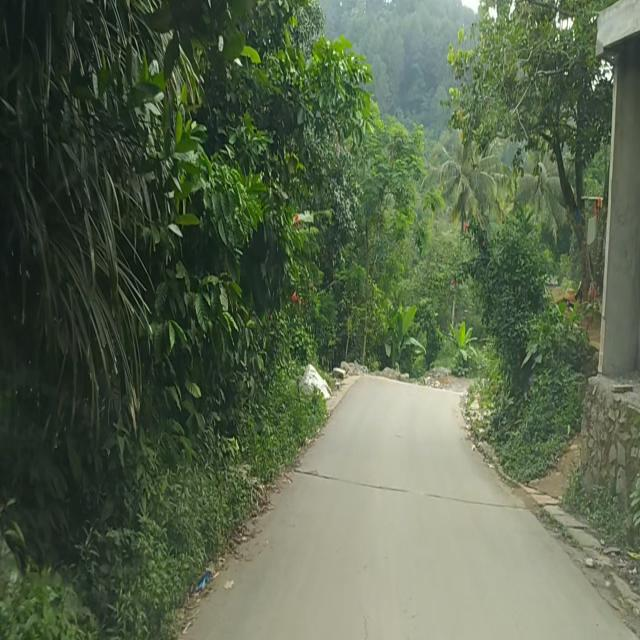Sewer Cover: (292, 466, 524, 508)
